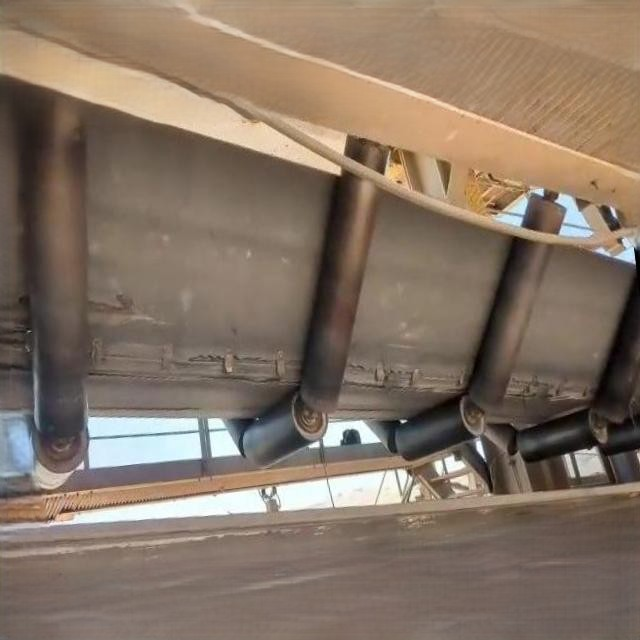Tear: (80, 338, 302, 396), (345, 351, 474, 403), (505, 362, 598, 410), (0, 290, 42, 382)
Wear: (74, 287, 178, 334)
